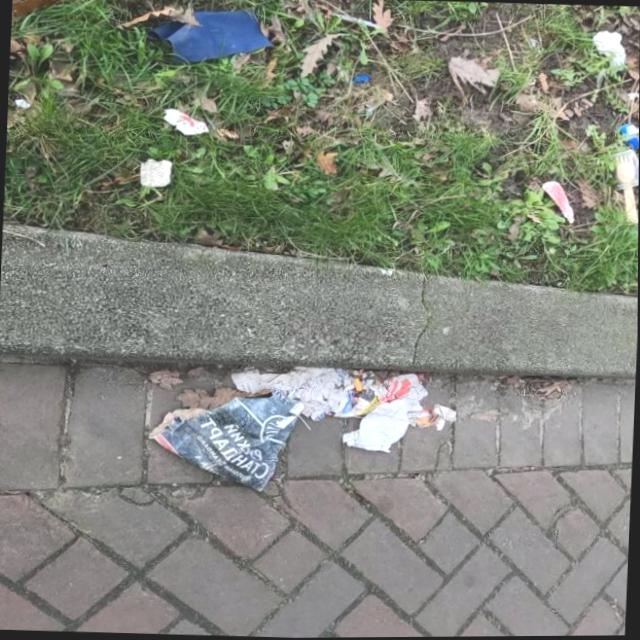Cup: (607, 147, 639, 186)
Paper: (141, 5, 275, 67), (590, 30, 629, 70)
Plastic: (161, 106, 210, 137)
